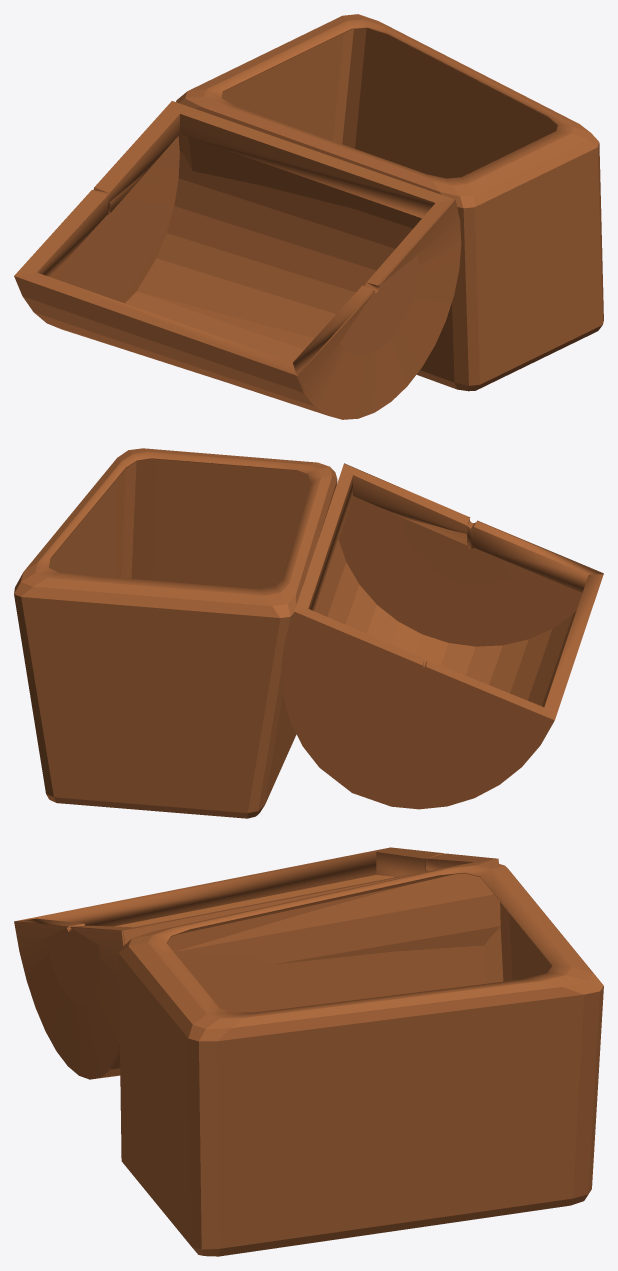
The model's file is TreasureChest.fbx.
The picture shows the model from 3 angles, top to bottom: view 1: azimuth 30°, elevation 25°; view 2: azimuth 150°, elevation 25°; view 3: azimuth 270°, elevation 25°; orthographic projection. The views are drawn at different scales.
Parts seen in each view (by area): view 1: Cylinder.003, Cube.001; view 2: Cube.001, Cylinder.003; view 3: Cube.001, Cylinder.003.
Part boxes in pixels (bbox=[...]): Cylinder.003: bbox=[14, 101, 461, 419]; Cube.001: bbox=[176, 14, 603, 391]; Cube.001: bbox=[14, 448, 337, 818]; Cylinder.003: bbox=[281, 463, 603, 809]; Cube.001: bbox=[118, 861, 603, 1256]; Cylinder.003: bbox=[14, 847, 500, 1079].
Size of the model in its own units: 548 by 222 by 486.
